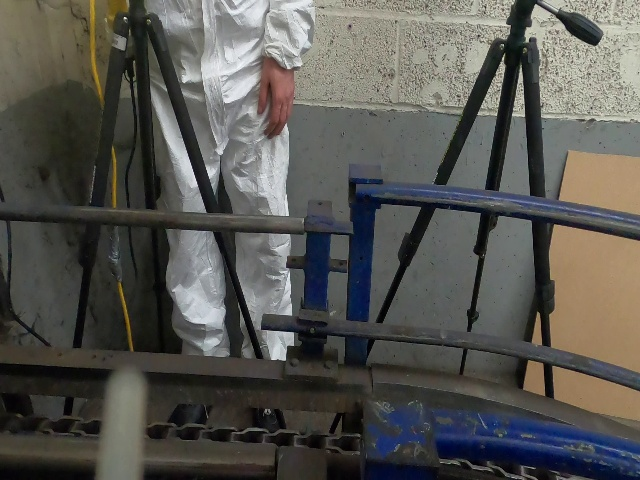gas_bottle: (6, 4, 640, 480)
